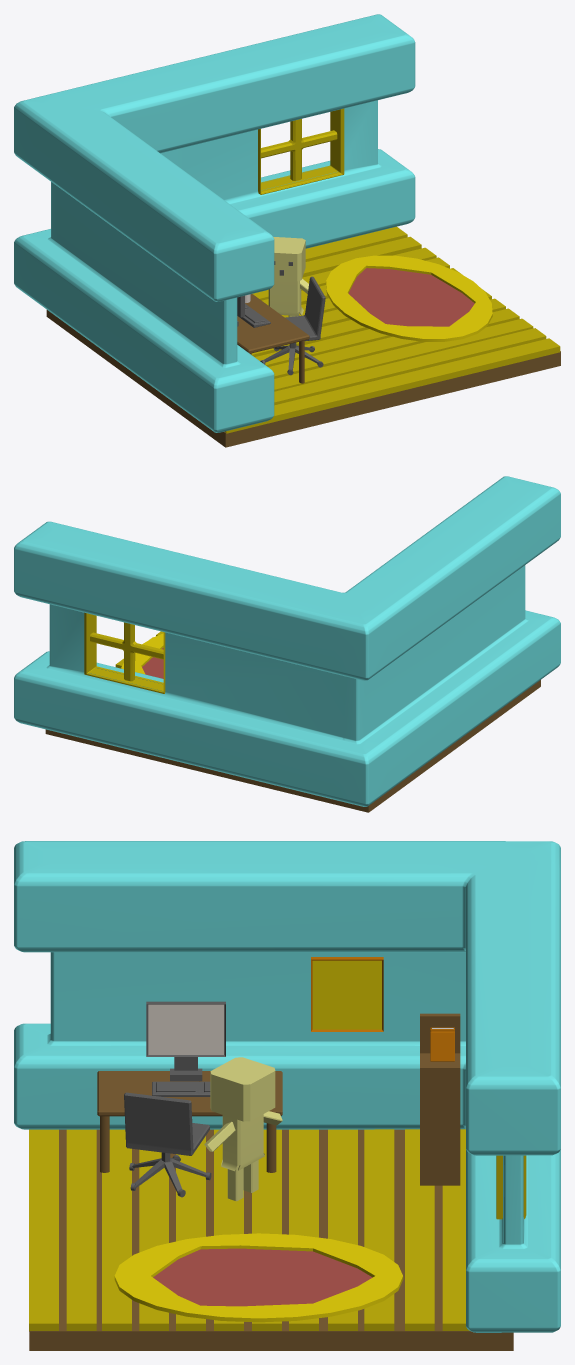
The model's file is cartoon house.fbx.
The picture shows the model from 3 angles, top to bottom: view 1: azimuth 30°, elevation 25°; view 2: azimuth 150°, elevation 25°; view 3: azimuth 270°, elevation 25°; orthographic projection. The views are drawn at different scales.
Visible parts, largest first — view 1: pCube17, pDisc1, bese, pCube35, pCube3, pCube15, pCube4, pCube27, pCube5, pCylinder11, pCube12, pCube6 (+5 smaller); view 2: pCube17, bese, pCube15, pDisc1; view 3: pCube17, bese, pDisc1, pCube28, pCube3, pCube35, pCube24, pCylinder11, pCube12, pCube25, pCube4, pCube11 (+13 smaller).
Boxes of the visible parts, x1,y1,x2,y2 form: pCube17: (14, 14, 415, 432); pDisc1: (326, 255, 492, 341); bese: (46, 310, 560, 447); pCube35: (225, 338, 560, 433); pCube3: (274, 328, 546, 405); pCube15: (258, 108, 344, 194); pCube4: (274, 318, 533, 391); pCube27: (237, 294, 309, 383); pCube5: (268, 308, 519, 378); pCylinder11: (260, 276, 325, 375); pCube12: (303, 236, 421, 277); pCube6: (255, 298, 505, 366); pCube17: (14, 476, 560, 806); bese: (45, 680, 540, 812); pCube15: (84, 612, 165, 693); pDisc1: (121, 633, 163, 678); pCube17: (14, 841, 560, 1332); bese: (29, 1129, 513, 1350); pDisc1: (114, 1233, 403, 1322); pCube28: (420, 1013, 460, 1185); pCube3: (66, 1129, 96, 1330); pCube35: (29, 1129, 58, 1331); pCube24: (311, 957, 383, 1031); pCylinder11: (124, 1092, 211, 1197); pCube12: (405, 1129, 434, 1330); pCube25: (146, 1001, 225, 1081); pCube4: (102, 1129, 131, 1330); pCube11: (364, 1129, 394, 1330).
Size of the model in its own units: 26.65 by 14.36 by 25.3.
